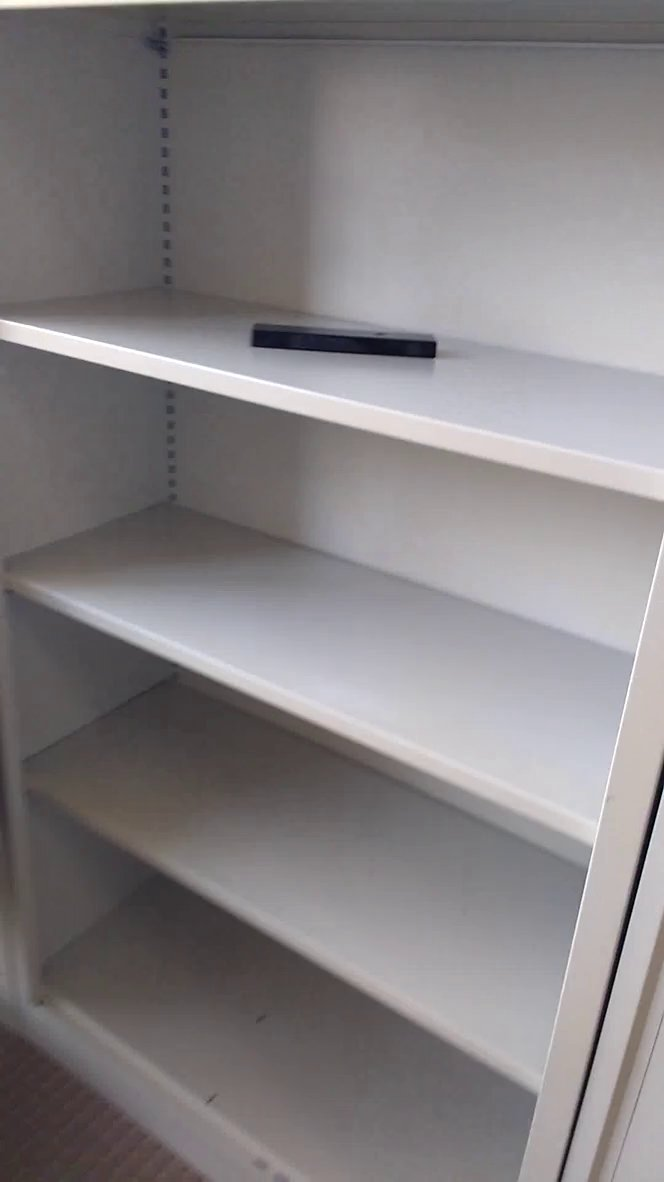remote: (241, 317, 446, 374)
